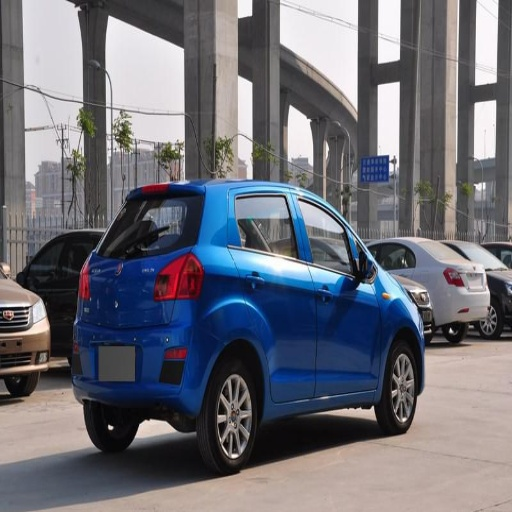back_bumper: (81, 313, 214, 412)
back_right_door: (231, 192, 315, 402)
tailgate: (79, 255, 154, 326)
trunk: (80, 254, 182, 380)
